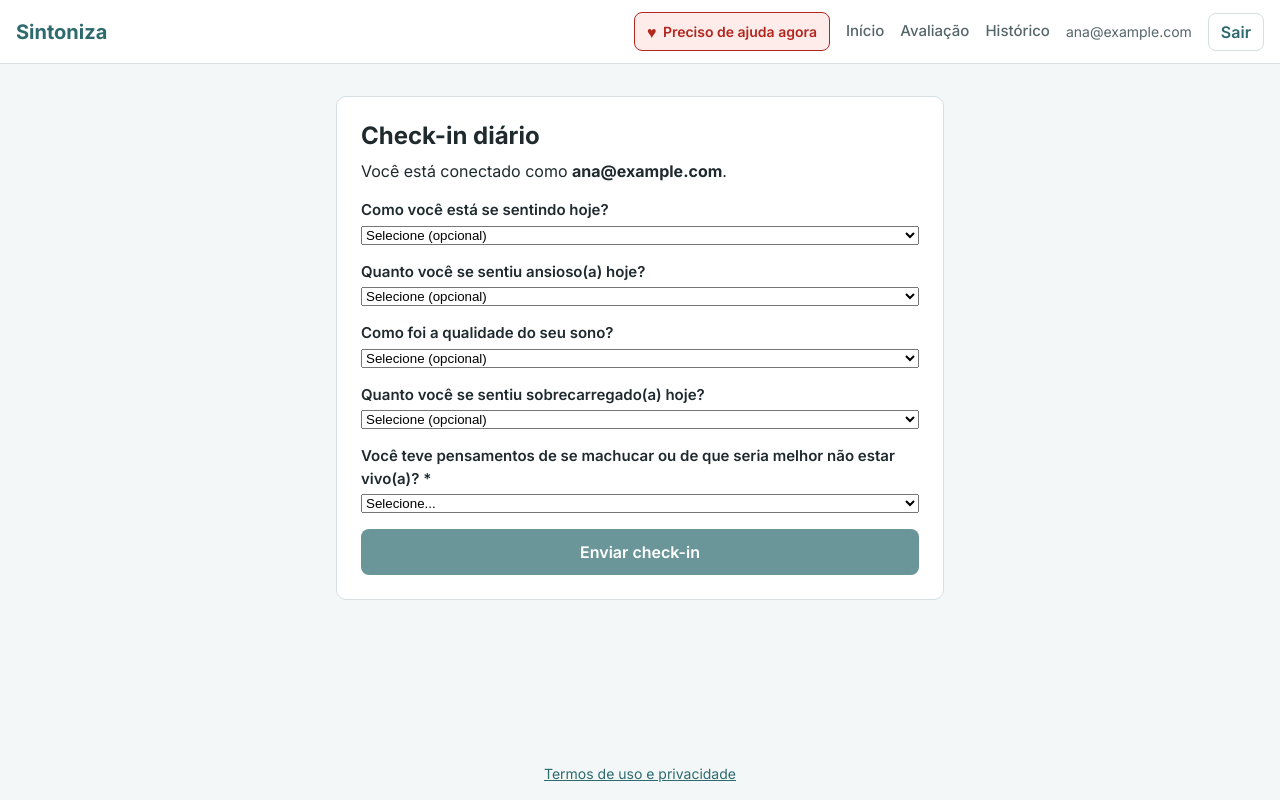
it: DailyCheckin sem risco (R06, R-S5) › mostra o resultado do dia quando o envio responde 409
Select "Bom" in the dropdown labelled "Como você está se sentindo hoje?": (640, 235) top-left (361, 226), bottom-right (919, 244)
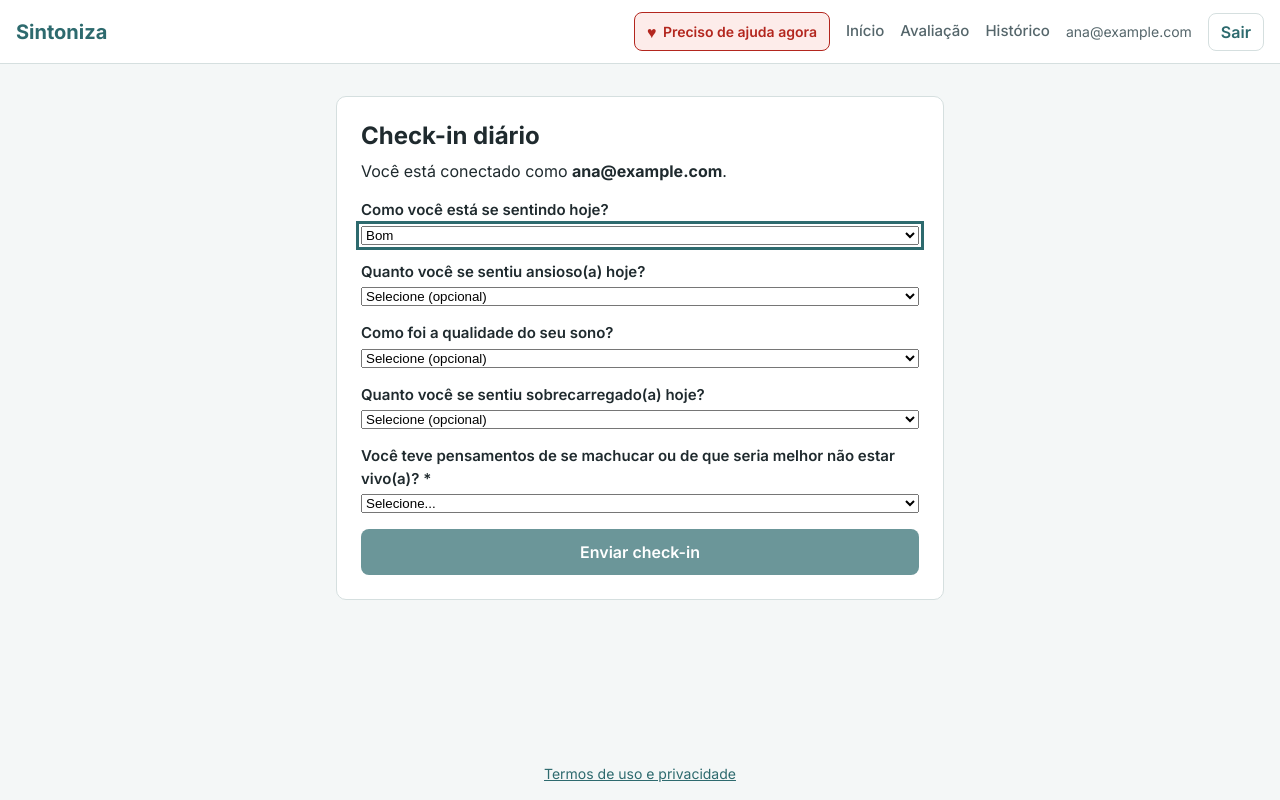
Select "Extremamente" in the dropdown labelled "Quanto você se sentiu ansioso(a) hoje?": (640, 296) top-left (361, 287), bottom-right (919, 306)
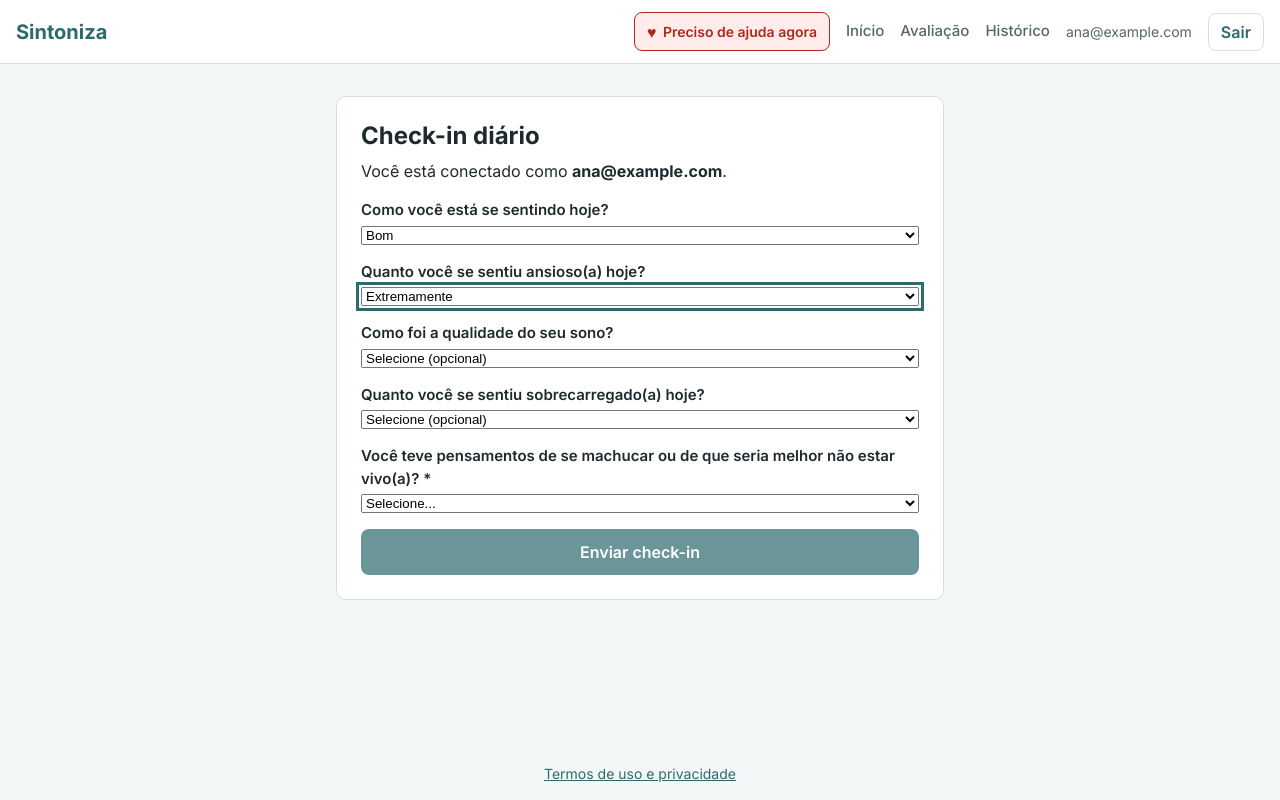
Select "Muito ruim" in the dropdown labelled "Como foi a qualidade do seu sono?": (640, 358) top-left (361, 348), bottom-right (919, 368)
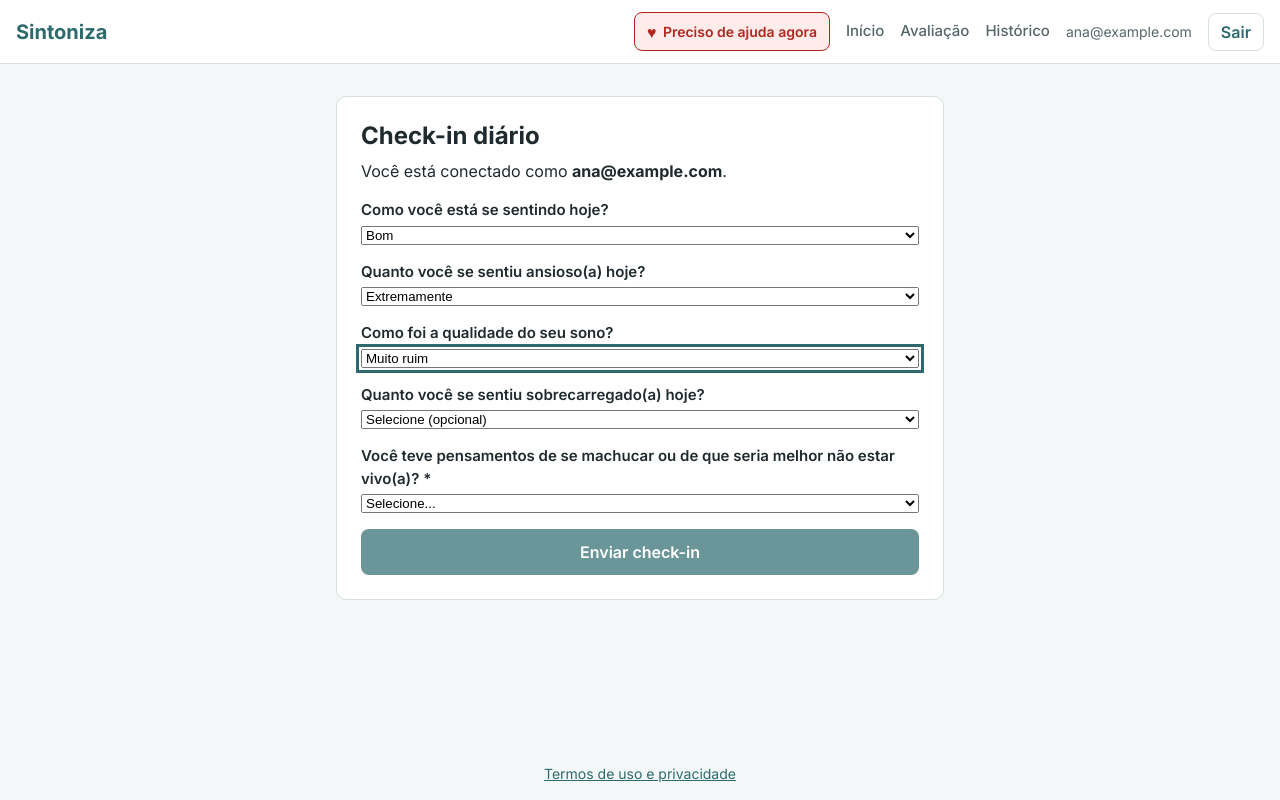
Select "Nada" in the dropdown labelled "Quanto você se sentiu sobrecarregado(a) hoje?": (640, 420) top-left (361, 410), bottom-right (919, 429)
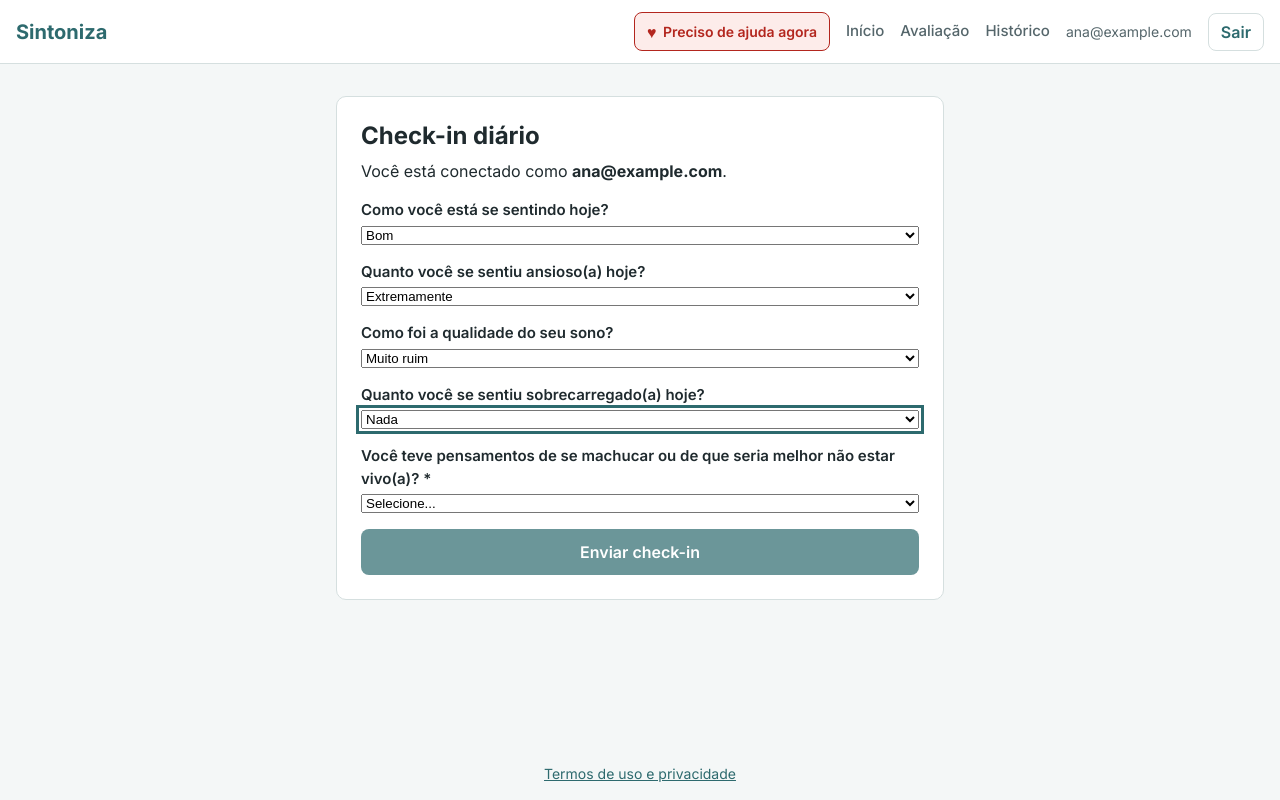
Select "Não" in the dropdown labelled "pensamentos de se machucar": (640, 504) top-left (361, 494), bottom-right (919, 513)
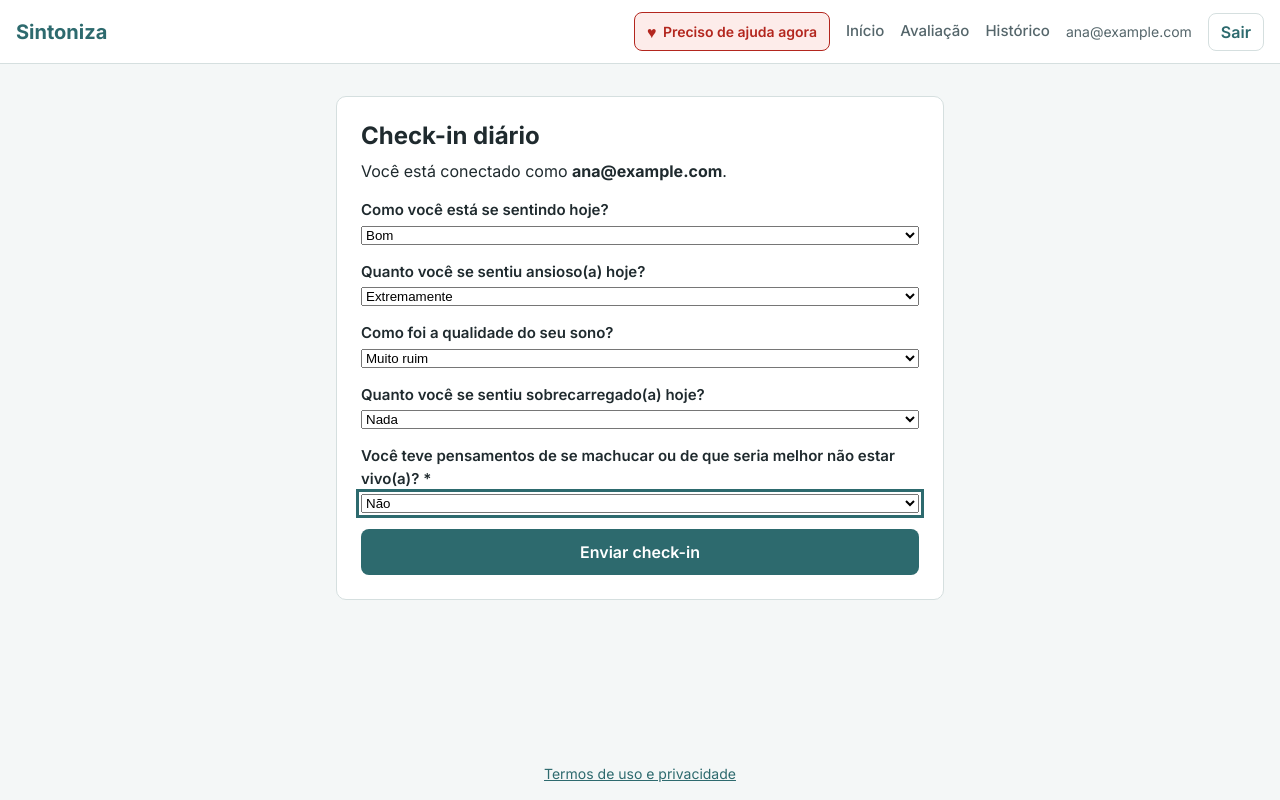
Click the button "Enviar check-in": (640, 552) top-left (361, 529), bottom-right (919, 575)
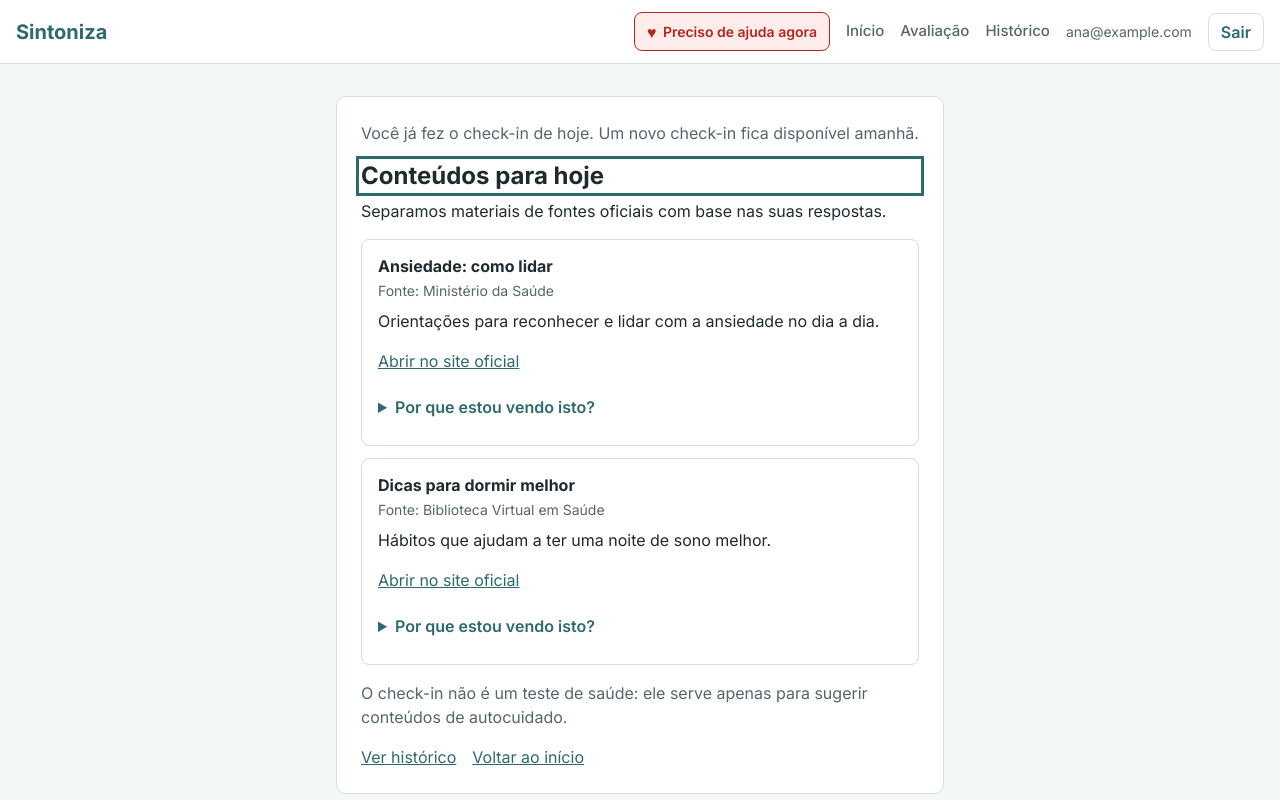
Check: the heading "Conteúdos para hoje" is shown, box top-left (361, 161), bottom-right (604, 190)
Check: the heading "Ansiedade: como lidar" is shown, box top-left (378, 256), bottom-right (553, 276)
Check: the text "Fonte: Ministério da Saúde" is shown, box top-left (378, 282), bottom-right (554, 299)
